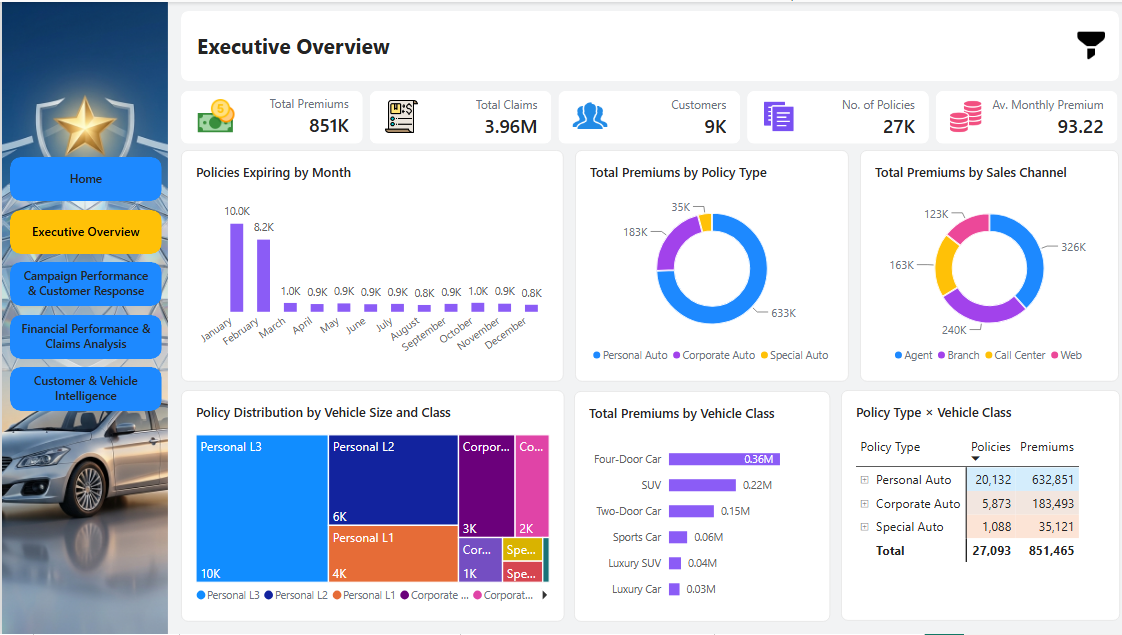

What the dashboard file says about the page in this screenshot:
{"tool":"powerbi","page":{"name":"Executive Overview","canvas":[1280,720],"ordinal":1},"visuals":[{"type":"image","box":[0,0,189.1,720],"z":500},{"type":"shape","box":[203.9,10.3,1068.6,79.7],"z":1000},{"type":"cardVisual","fields":{"Data":["DAX MEASURES.Total Premiums","DAX MEASURES.Total Claims","DAX MEASURES.Customers","DAX MEASURES.No. of Policies1","DAX MEASURES.Av. Monthly Premium"]},"box":[203.9,101.4,1069.7,60.4],"z":2000},{"type":"clusteredColumnChart","title":"Policies Expiring by Month","fields":{"Category":["Dim_Dates.Effective_To_Date.Variation.Date Hierarchy.Month"],"Y":["DAX MEASURES.No. of Policies"]},"box":[203.9,168.6,436.3,264.3],"z":3000},{"type":"donutChart","fields":{"Category":["Dim_Policies.Policy_Type"],"Y":["DAX MEASURES.Total Premiums"]},"box":[652.8,168.6,312.2,264.3],"z":4000},{"type":"donutChart","title":"Total Premiums by Sales Channel","fields":{"Category":["Dim_Offers.Sales_Channel"],"Y":["DAX MEASURES.Total Premiums"]},"box":[977.5,168.8,295,263.8],"z":5000},{"type":"treemap","title":"Policy Distribution by Vehicle Size and Class","fields":{"Group":["Dim_Policies.Policy","Dim_Vehicles.Vehicle_Size","Dim_Vehicles.Vehicle_Class"],"Values":["DAX MEASURES.No. of Policies"]},"box":[203.5,441.9,436.5,264.1],"z":6000},{"type":"clusteredBarChart","title":"Total Premiums by Vehicle Class","fields":{"Category":["Dim_Vehicles.Vehicle_Class"],"Y":["DAX MEASURES.Total Premiums"]},"box":[652.1,443.3,292.4,262.7],"z":7000},{"type":"pivotTable","title":"Policy Type × Vehicle Class","fields":{"Rows":["Dim_Policies.Policy_Type","Dim_Vehicles.Vehicle_Class"],"Values":["DAX MEASURES.No. of Policies","DAX MEASURES.Total Premiums"]},"box":[955.3,441.9,318,262.7],"z":8000},{"type":"textbox","box":[222.5,32.5,300,35],"z":9000},{"type":"image","box":[1217.8,28.5,45.6,42.2],"z":10000},{"type":"pageNavigator","box":[9.1,176.7,173.2,50.1],"z":12000},{"type":"pageNavigator","box":[9.1,237.1,173.2,50.1],"z":13000},{"type":"pageNavigator","box":[9.1,296.1,173.2,50.1],"z":14000},{"type":"pageNavigator","box":[9.1,356.1,173.2,50.1],"z":15000},{"type":"pageNavigator","box":[9.1,416.1,173.2,50.1],"z":16000}]}

Visuals, with their boxes on the page's 1280x720 design canvas (x1, y1, x2, y2). These are canvas units, not pixel positions in the 1122x635 screenshot, which may show the page scaled, cropped or inside an application window:
image: [x1=0, y1=0, x2=189, y2=720]
shape: [x1=204, y1=10, x2=1272, y2=90]
cardVisual - DAX MEASURES.Total Premiums x DAX MEASURES.Total Claims: [x1=204, y1=101, x2=1274, y2=162]
"Policies Expiring by Month" clusteredColumnChart: [x1=204, y1=169, x2=640, y2=433]
donutChart - Dim_Policies.Policy_Type x DAX MEASURES.Total Premiums: [x1=653, y1=169, x2=965, y2=433]
"Total Premiums by Sales Channel" donutChart: [x1=978, y1=169, x2=1272, y2=433]
"Policy Distribution by Vehicle Size and Class" treemap: [x1=204, y1=442, x2=640, y2=706]
"Total Premiums by Vehicle Class" clusteredBarChart: [x1=652, y1=443, x2=944, y2=706]
"Policy Type × Vehicle Class" pivotTable: [x1=955, y1=442, x2=1273, y2=705]
textbox: [x1=222, y1=32, x2=522, y2=68]
image: [x1=1218, y1=28, x2=1263, y2=71]
pageNavigator: [x1=9, y1=177, x2=182, y2=227]
pageNavigator: [x1=9, y1=237, x2=182, y2=287]
pageNavigator: [x1=9, y1=296, x2=182, y2=346]
pageNavigator: [x1=9, y1=356, x2=182, y2=406]
pageNavigator: [x1=9, y1=416, x2=182, y2=466]
